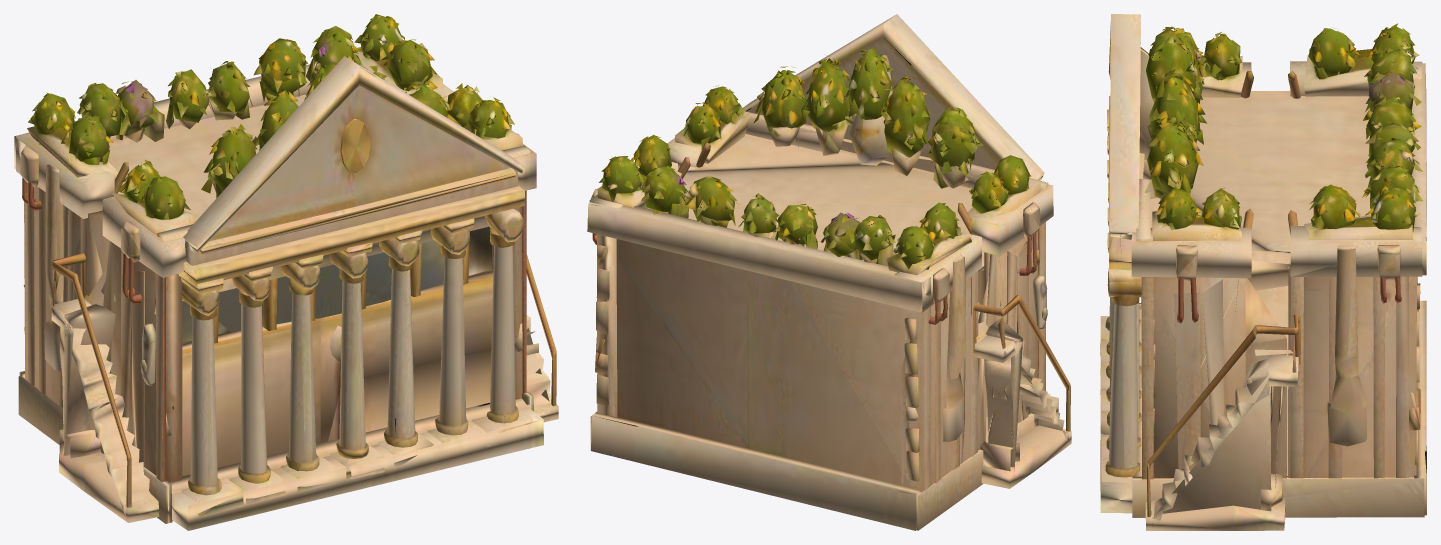
Rendered from old-exchange.glb.
3 views of the same model, side by side, from view 1: azimuth 30°, elevation 25°; view 2: azimuth 150°, elevation 25°; view 3: azimuth 270°, elevation 25° (orthographic). The views are drawn at different scales.
Parts seen in each view (by area): view 1: old-exchange; view 2: old-exchange; view 3: old-exchange.
Part boxes in pixels (x1,y1,x2,y2): old-exchange: (14, 14, 558, 530); old-exchange: (587, 14, 1071, 530); old-exchange: (1100, 14, 1426, 530).
Size of the model in its own units: 6 by 5.6 by 4.
Materials: 1 (1 with a texture image).
